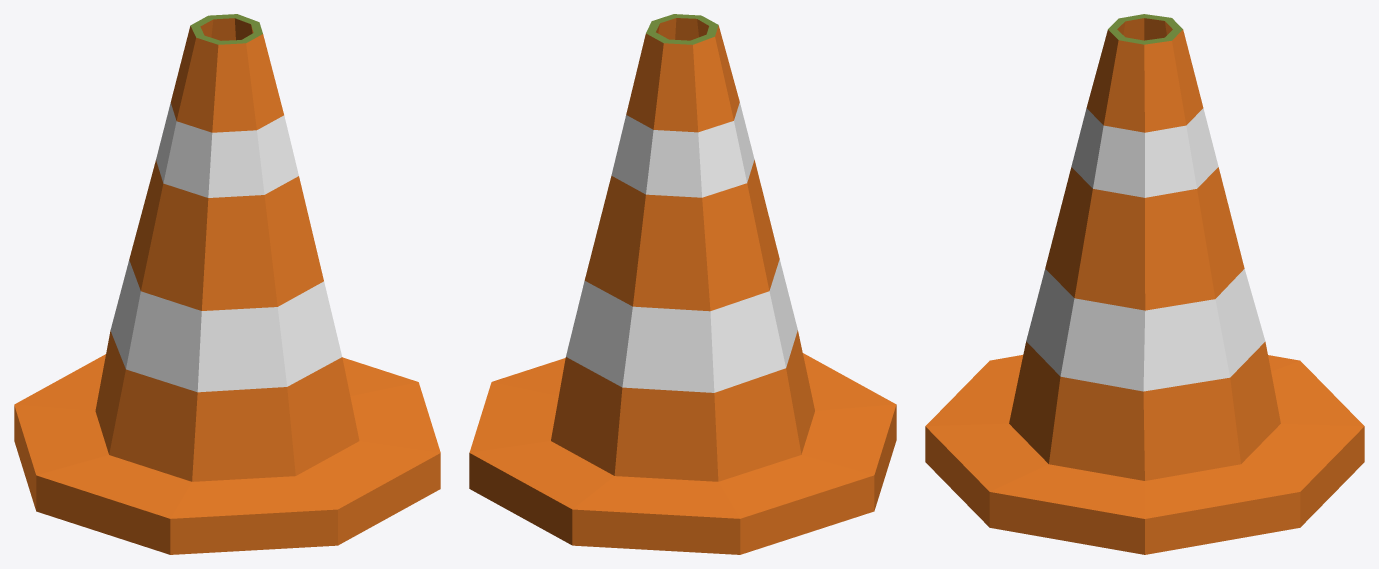
File: traffic cone.fbx
3 renders of one model, left to right at view 1: azimuth 30°, elevation 25°; view 2: azimuth 150°, elevation 25°; view 3: azimuth 270°, elevation 25°, orthographic.
Visible parts, largest first — view 1: Cylinder; view 2: Cylinder; view 3: Cylinder.
Part boxes in pixels (bbox=[...]): Cylinder: bbox=[14, 14, 440, 554]; Cylinder: bbox=[469, 14, 896, 554]; Cylinder: bbox=[925, 14, 1364, 554].
Size of the model in its own units: 37.15 by 40.57 by 37.15.
1 material, 1 textured.
